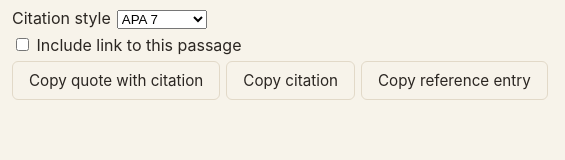
Test: CiteControl › copies_the_quote_with_an_apa_in_text_citation_and_html_italics
This screenshot has width=565, height=160.
Click the button "Copy quote with citation" at (116, 80), box [12,61,220,100]
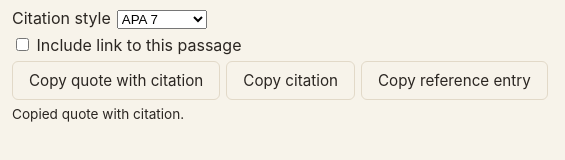
Expected: the message shows "Copied", [12,106,184,122]
